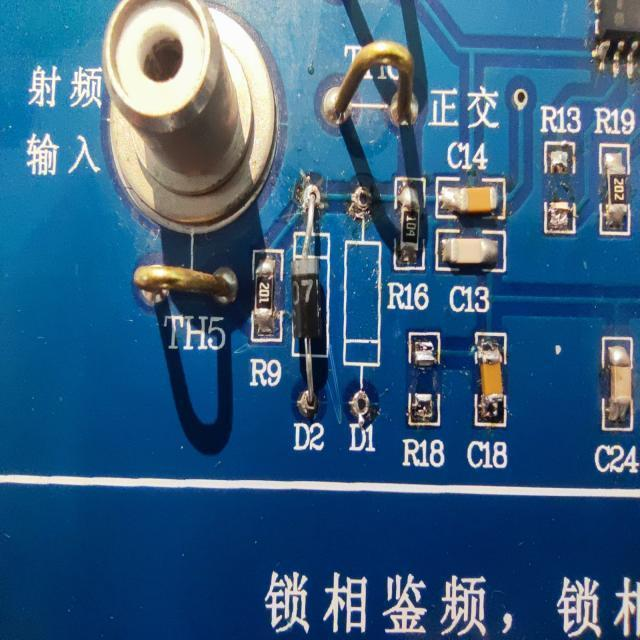Missing component: (340, 182, 384, 454), (400, 330, 448, 472), (538, 102, 582, 238)
